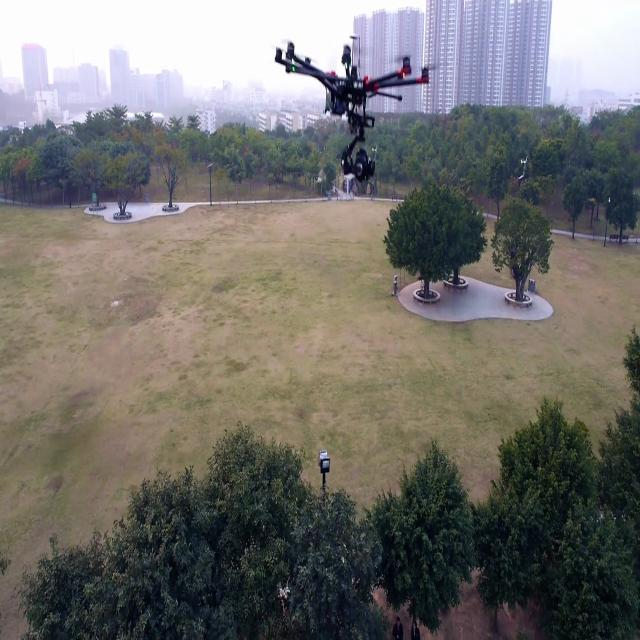drone: (275, 11, 433, 193)
